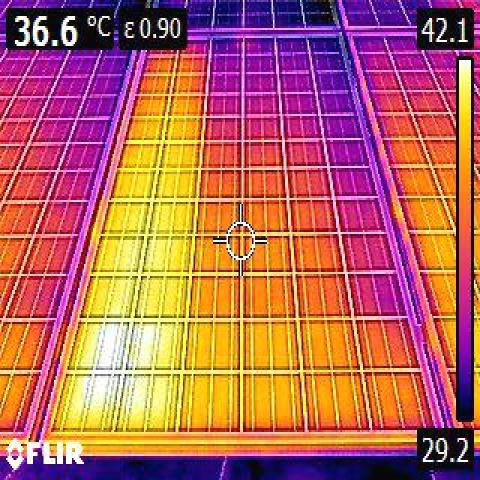fault: (55, 32, 214, 434)
